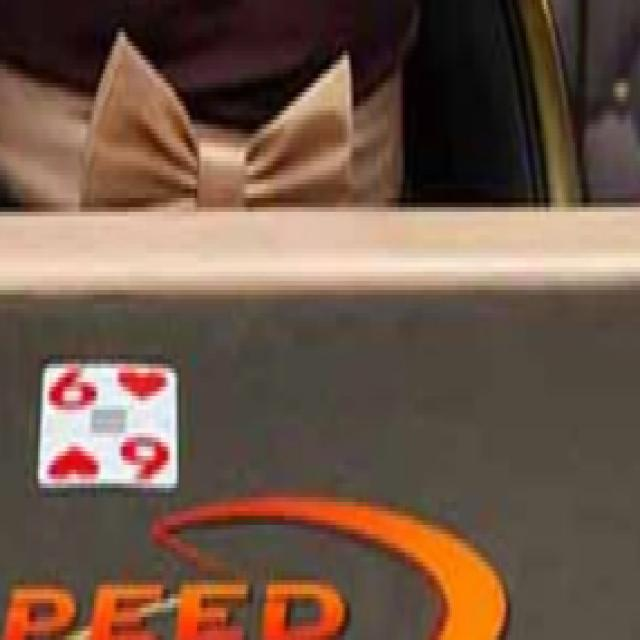Card-6: (40, 353, 176, 492)
